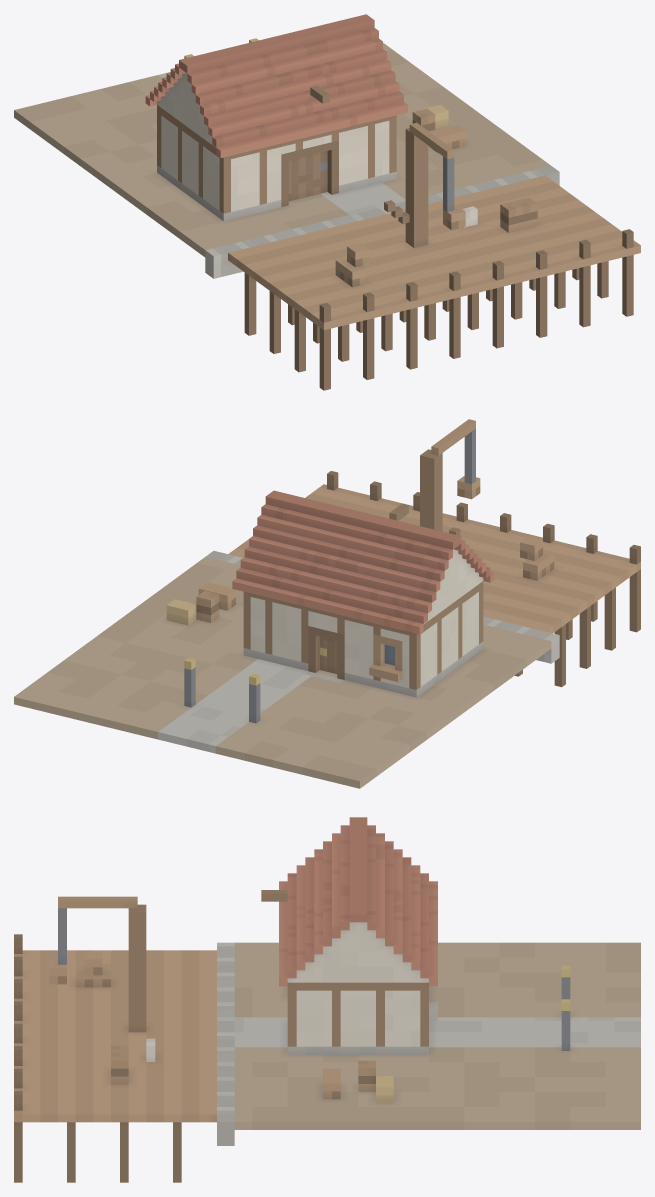
File: trading_post.l2.glb
The picture shows the model from 3 angles, top to bottom: view 1: azimuth 30°, elevation 25°; view 2: azimuth 150°, elevation 25°; view 3: azimuth 270°, elevation 25°; orthographic projection. The views are drawn at different scales.
Parts seen in each view (by area): view 1: trading_post; view 2: trading_post; view 3: trading_post.
Part boxes in pixels (bbox=[...]): trading_post: bbox=[14, 14, 640, 390]; trading_post: bbox=[14, 419, 640, 788]; trading_post: bbox=[14, 817, 640, 1182].
Size of the model in its own units: 6 by 3.38 by 8.88.
